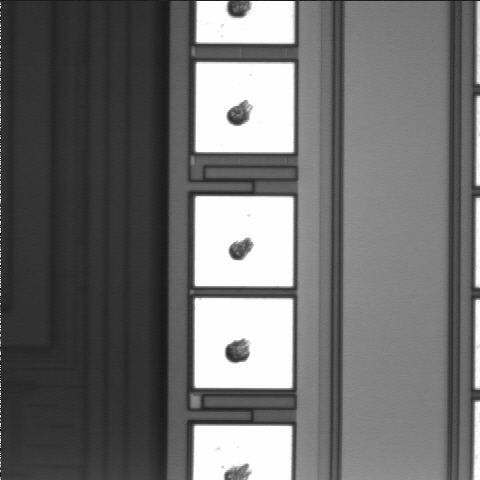pad: (196, 62, 294, 152), (195, 196, 293, 286), (195, 298, 293, 388)
